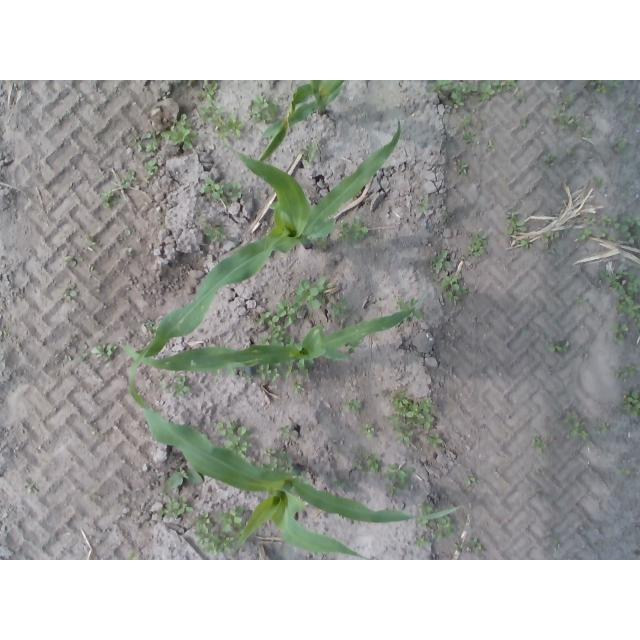Maize: (131, 117, 402, 390), (130, 375, 462, 560), (118, 301, 421, 371), (257, 81, 343, 163)
Weeds: (199, 80, 246, 138), (426, 80, 523, 108), (194, 506, 245, 557), (599, 268, 640, 319), (389, 390, 436, 431), (258, 300, 298, 345), (162, 113, 198, 151), (199, 178, 242, 207), (292, 279, 332, 310), (384, 462, 416, 498), (217, 421, 248, 456), (246, 95, 282, 124), (259, 447, 297, 474), (553, 95, 581, 130), (440, 275, 469, 306), (165, 469, 204, 492), (195, 216, 227, 243), (157, 496, 196, 518), (417, 519, 455, 541), (563, 410, 590, 440), (350, 447, 380, 474), (339, 217, 368, 243), (55, 331, 77, 365), (299, 140, 324, 165), (428, 249, 453, 273), (621, 389, 640, 420), (466, 233, 488, 259), (133, 132, 160, 153), (284, 359, 312, 379), (619, 215, 640, 241), (506, 211, 527, 236), (171, 373, 190, 399), (394, 425, 415, 448), (610, 364, 640, 380), (91, 343, 117, 361), (548, 338, 571, 355), (102, 191, 121, 210), (542, 229, 562, 247), (612, 320, 628, 341), (62, 281, 78, 302), (260, 365, 281, 381), (466, 537, 486, 553), (144, 159, 160, 179), (64, 252, 85, 267), (531, 436, 548, 454), (121, 170, 138, 188), (600, 214, 620, 229), (332, 298, 347, 318), (344, 398, 361, 414), (577, 227, 595, 242), (82, 233, 95, 252), (594, 421, 614, 433), (429, 434, 443, 451), (590, 80, 607, 94), (416, 195, 428, 214), (419, 499, 435, 513), (362, 424, 375, 441), (454, 159, 468, 174), (24, 479, 39, 493), (546, 531, 562, 544), (542, 152, 559, 164), (613, 139, 627, 153), (333, 479, 348, 492), (276, 426, 291, 439), (413, 535, 427, 548), (579, 126, 593, 139), (144, 319, 156, 334), (461, 129, 473, 143), (292, 381, 304, 395), (615, 466, 630, 477), (576, 295, 587, 309), (396, 299, 410, 310), (387, 413, 401, 423), (316, 239, 328, 250), (80, 346, 88, 362), (242, 373, 254, 383), (520, 239, 532, 249), (468, 473, 477, 486), (0, 324, 8, 338), (519, 118, 529, 129), (460, 117, 471, 127), (592, 176, 602, 186), (413, 309, 423, 319), (627, 102, 637, 111), (598, 230, 608, 239), (534, 468, 545, 476), (126, 553, 138, 560), (124, 247, 133, 256), (454, 543, 462, 553), (535, 487, 542, 498), (442, 211, 452, 218), (564, 148, 572, 156), (488, 140, 496, 148), (160, 209, 168, 217), (125, 230, 132, 239), (587, 217, 595, 224), (187, 80, 198, 85), (610, 80, 618, 86), (374, 393, 378, 397)
